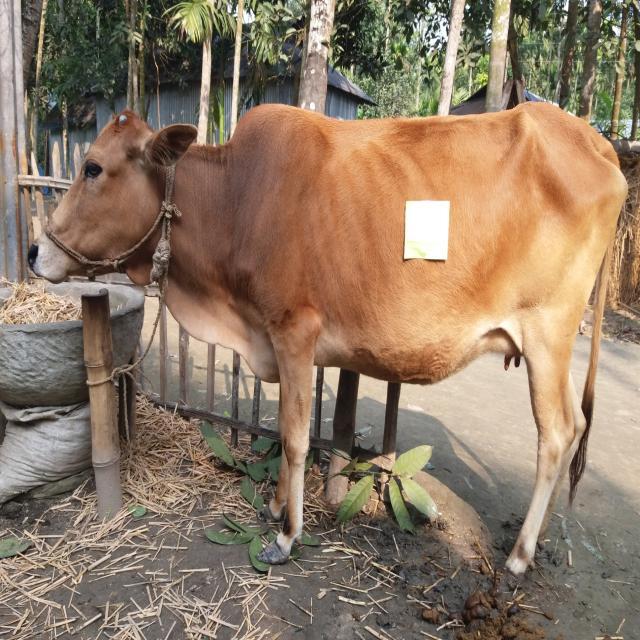badan_sapi: (268, 113, 602, 379)
sapi: (25, 96, 635, 594)
